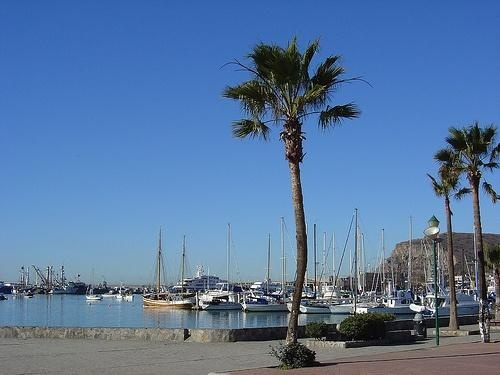boat: (331, 206, 377, 316), (144, 223, 194, 311), (244, 218, 290, 313), (198, 221, 245, 312), (296, 230, 335, 315), (422, 287, 480, 317), (357, 291, 418, 317), (172, 264, 227, 291)
